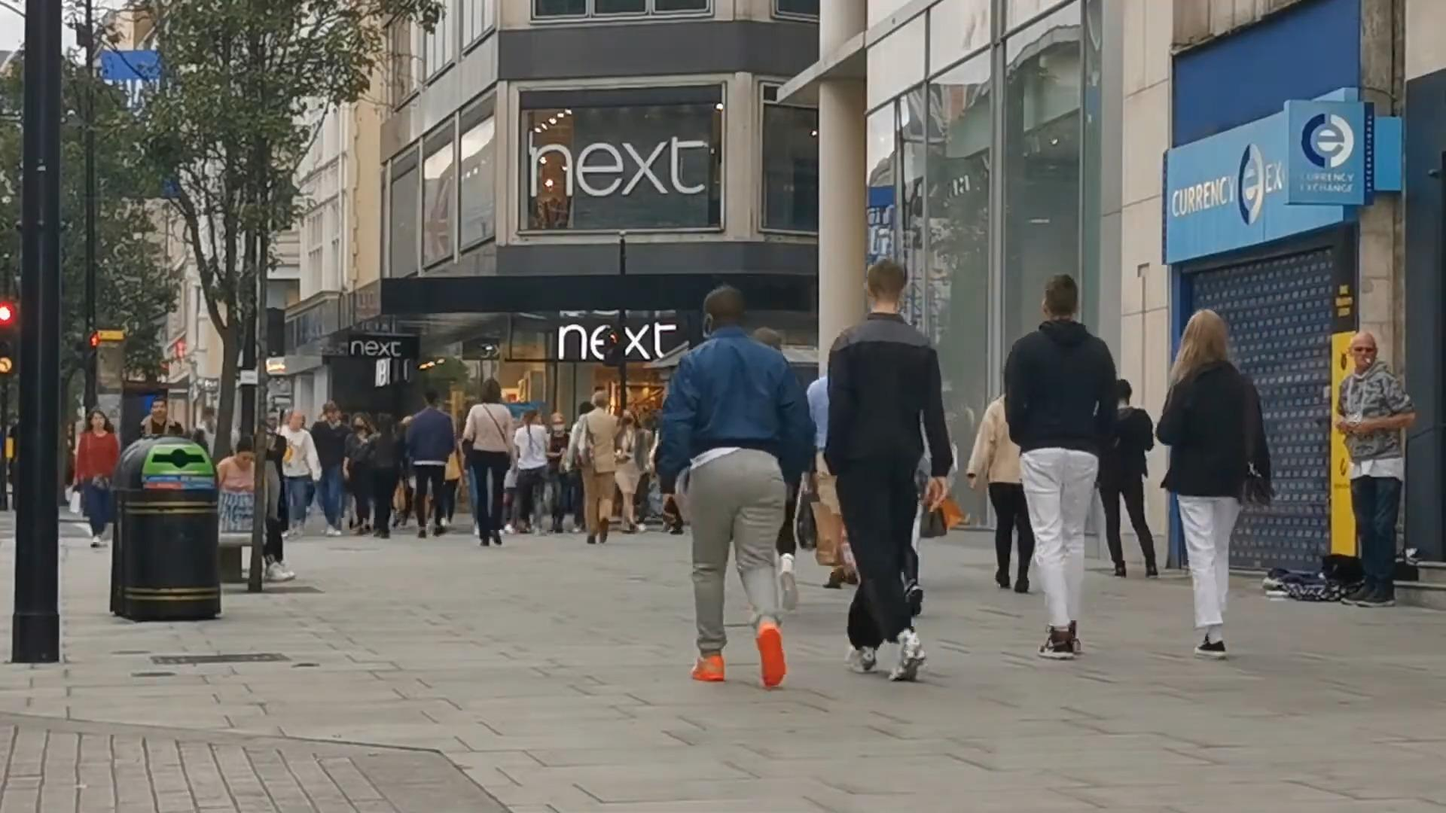no-helmet: (1175, 308, 1229, 365), (702, 283, 746, 340), (865, 256, 905, 309), (1042, 273, 1080, 321), (1348, 332, 1378, 371), (235, 435, 256, 468), (480, 378, 501, 404), (86, 409, 110, 431), (150, 397, 168, 421), (591, 390, 611, 411), (351, 412, 372, 432), (549, 413, 566, 434), (622, 410, 641, 426)
